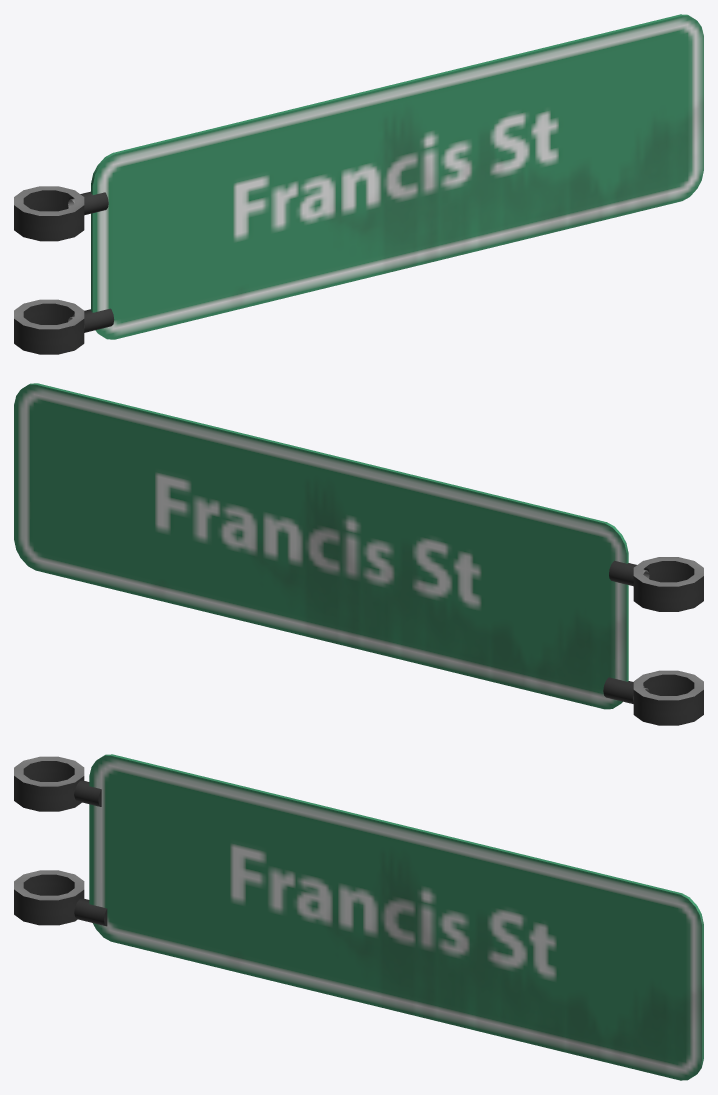
Rendered from Sign_St_Francis.fbx.
3 renders of one model, top to bottom at view 1: azimuth 30°, elevation 25°; view 2: azimuth 150°, elevation 25°; view 3: azimuth 330°, elevation 25°, orthographic.
Visible parts, largest first — view 1: Sign_St_Francis; view 2: Sign_St_Francis; view 3: Sign_St_Francis.
Boxes of the visible parts, bbox=[...] form: Sign_St_Francis: bbox=[14, 14, 703, 354]; Sign_St_Francis: bbox=[14, 383, 703, 725]; Sign_St_Francis: bbox=[14, 754, 703, 1080].
Size of the model in its own units: 158 by 40.91 by 14.06.
